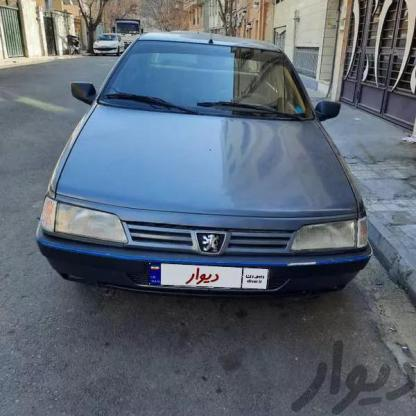Car: (26, 35, 380, 306), (91, 35, 122, 56)
Truck: (106, 12, 148, 38)
